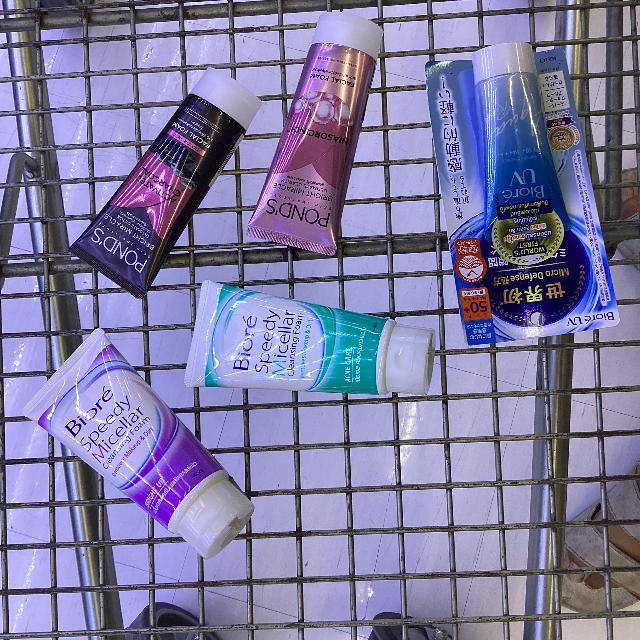Squeeze Tube: (51, 16, 640, 577)
